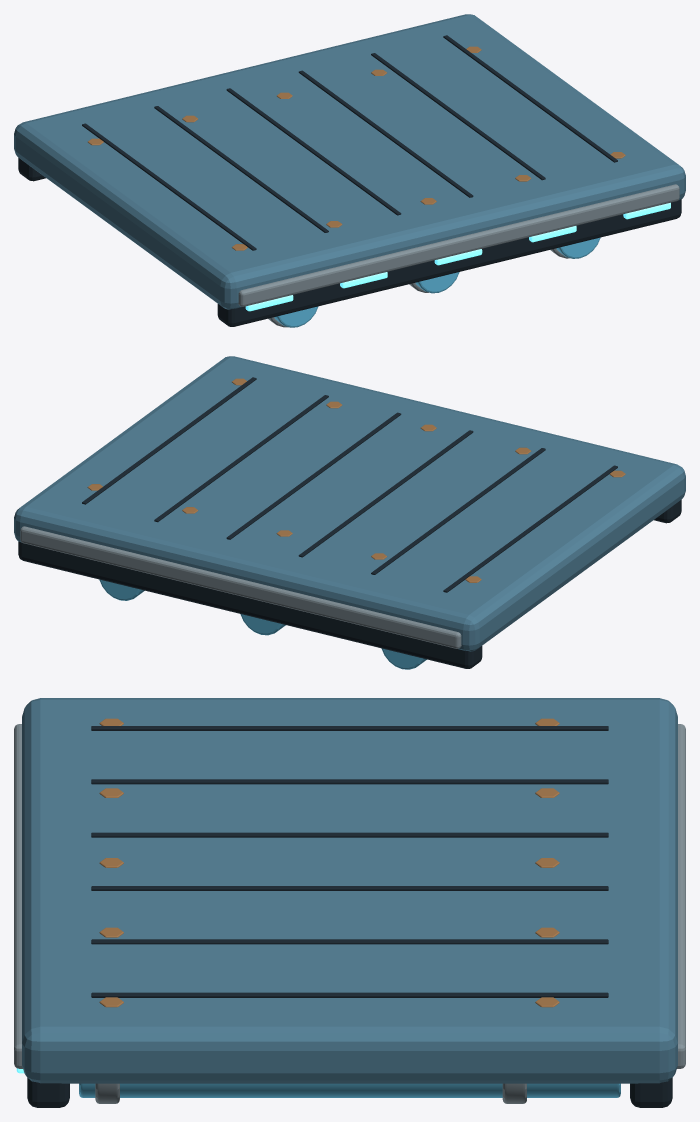
Rendered from traverse_ledge.glb.
3 renders of one model, top to bottom at view 1: azimuth 30°, elevation 25°; view 2: azimuth 150°, elevation 25°; view 3: azimuth 270°, elevation 25°, orthographic. The views are drawn at different scales.
Parts seen in each view (by area): view 1: traverse_ledge; view 2: traverse_ledge; view 3: traverse_ledge.
Part boxes in pixels (box(x1,y1,x2,y2)): traverse_ledge: box(14, 14, 685, 327); traverse_ledge: box(14, 356, 685, 669); traverse_ledge: box(14, 698, 685, 1107).
Size of the model in its own units: 3.98 by 0.734 by 3.3.
